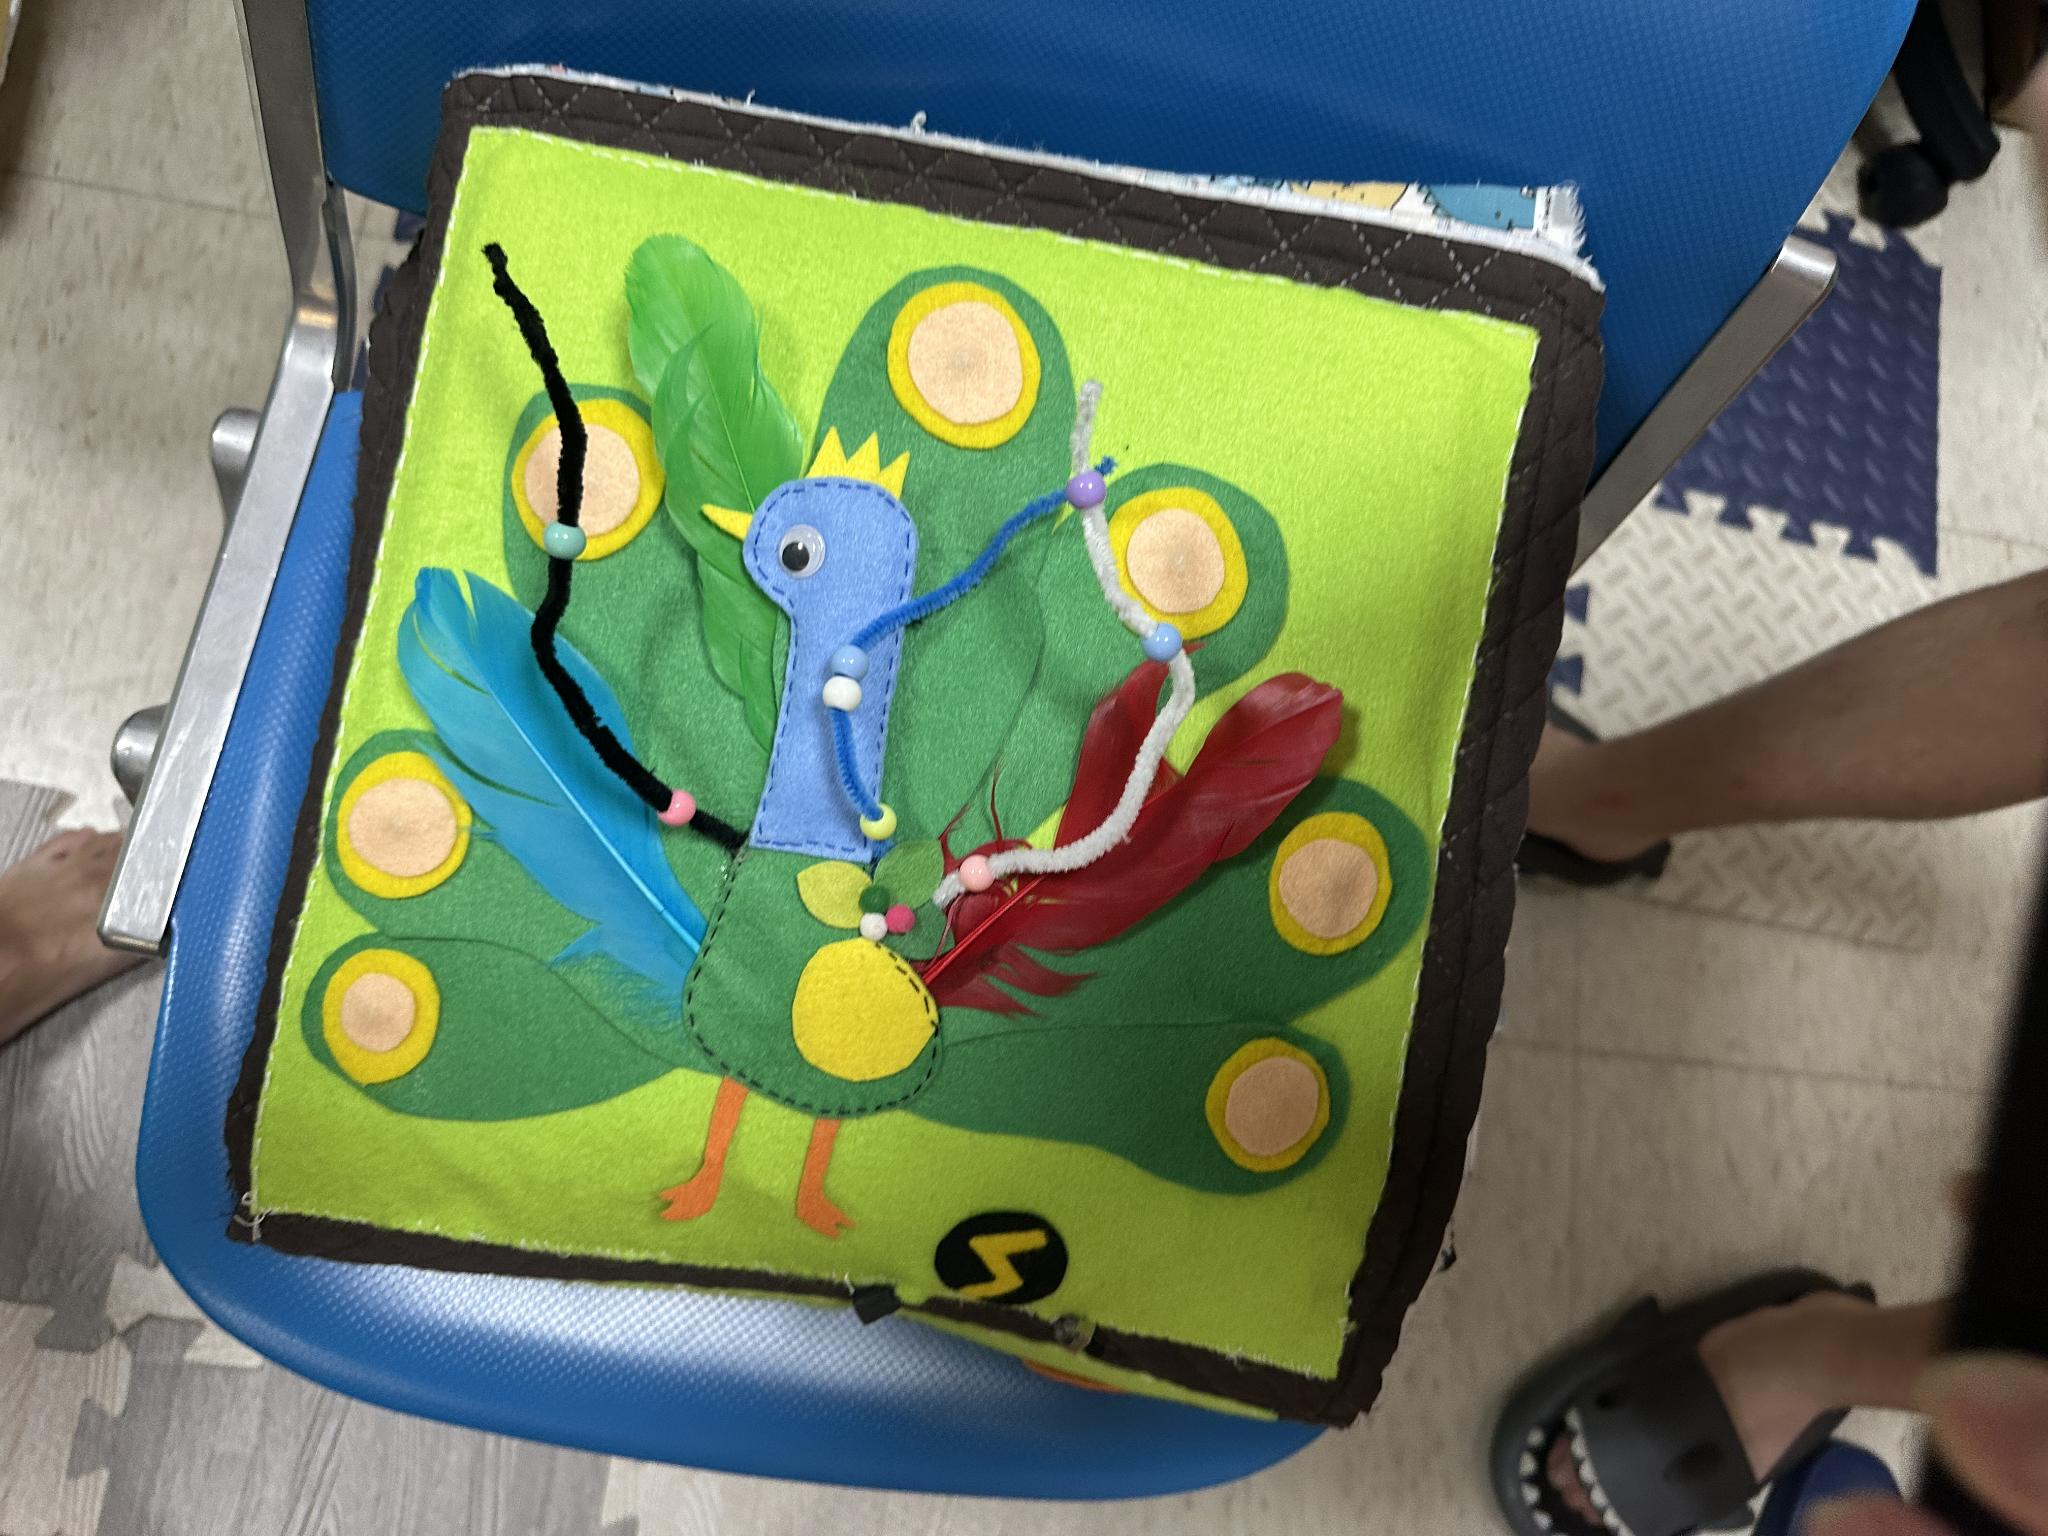bead: (834, 781, 913, 850), (1130, 613, 1193, 674), (1064, 463, 1126, 515), (543, 511, 598, 566), (813, 679, 877, 724), (948, 850, 1006, 899), (661, 773, 693, 833), (830, 636, 874, 678)
